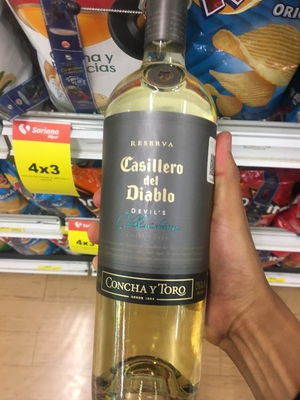casillero del diablo devils collection verde: (93, 20, 221, 364)
